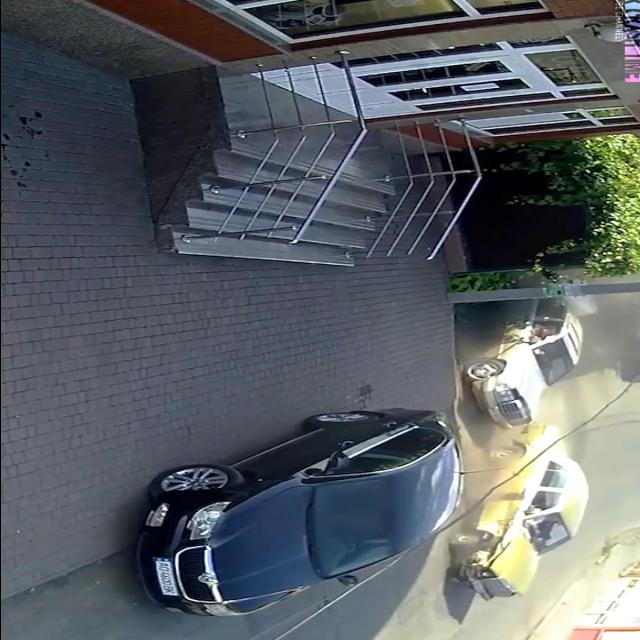accident: (453, 296, 602, 598)
